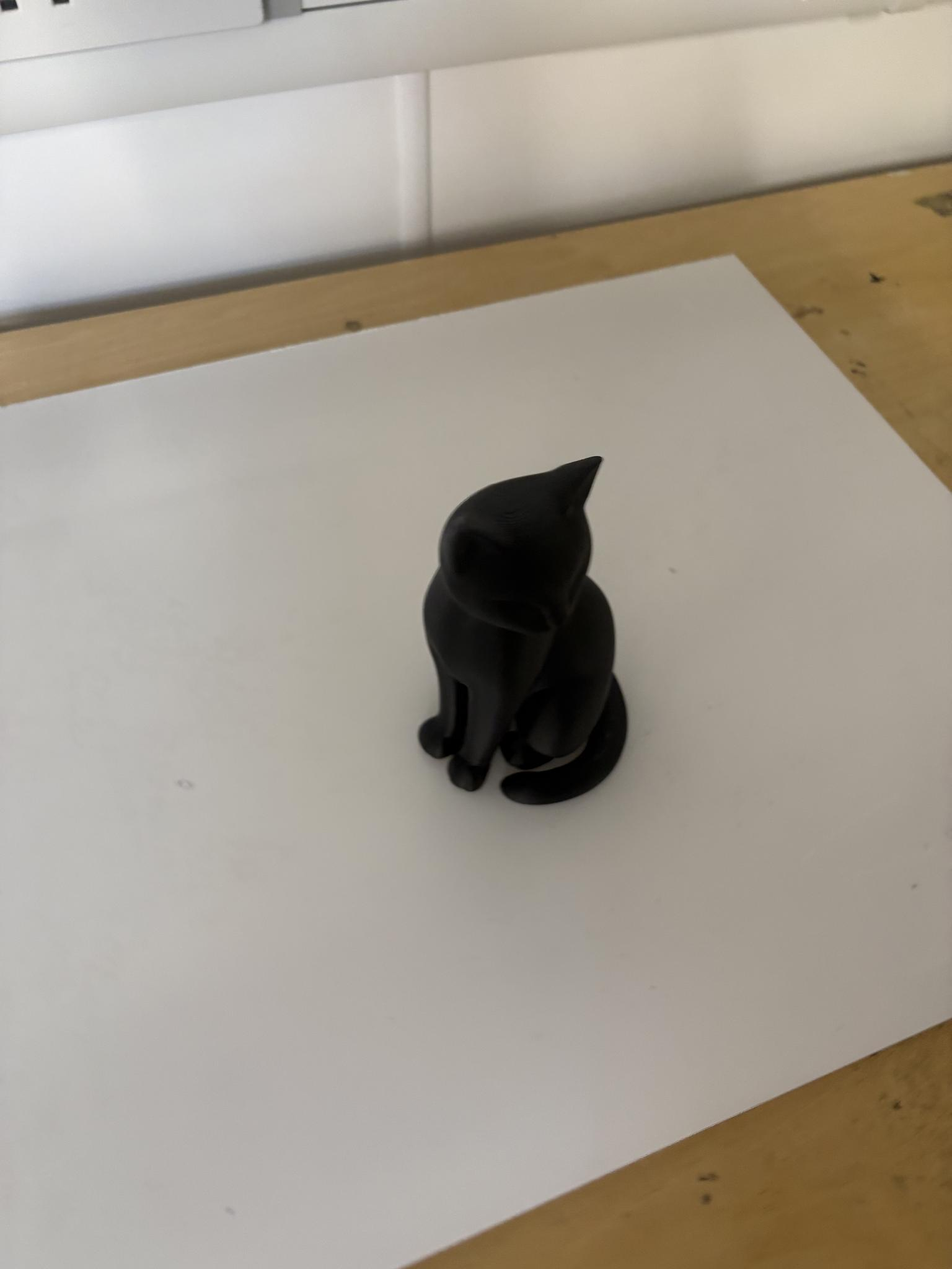cat: (420, 457, 627, 804)
